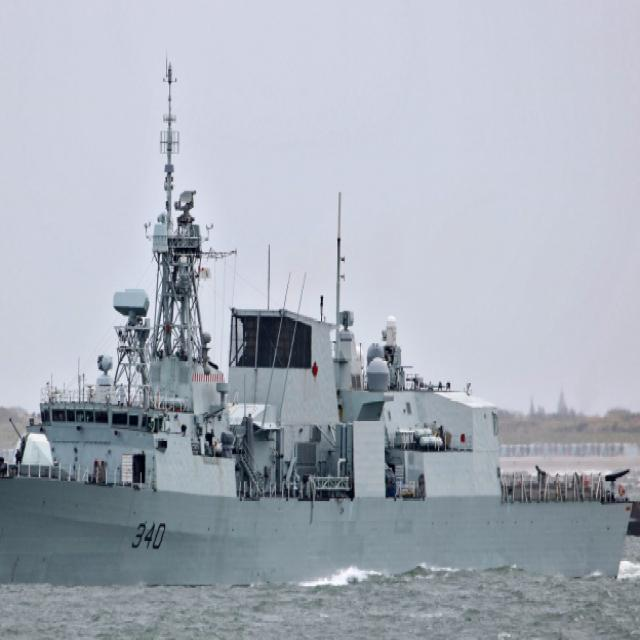Fragata: (1, 57, 634, 597)
